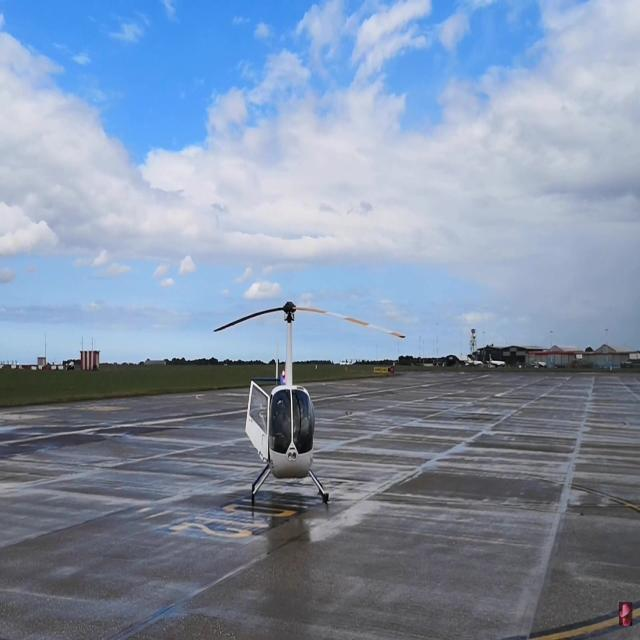CIV_HELO: (243, 300, 331, 507)
